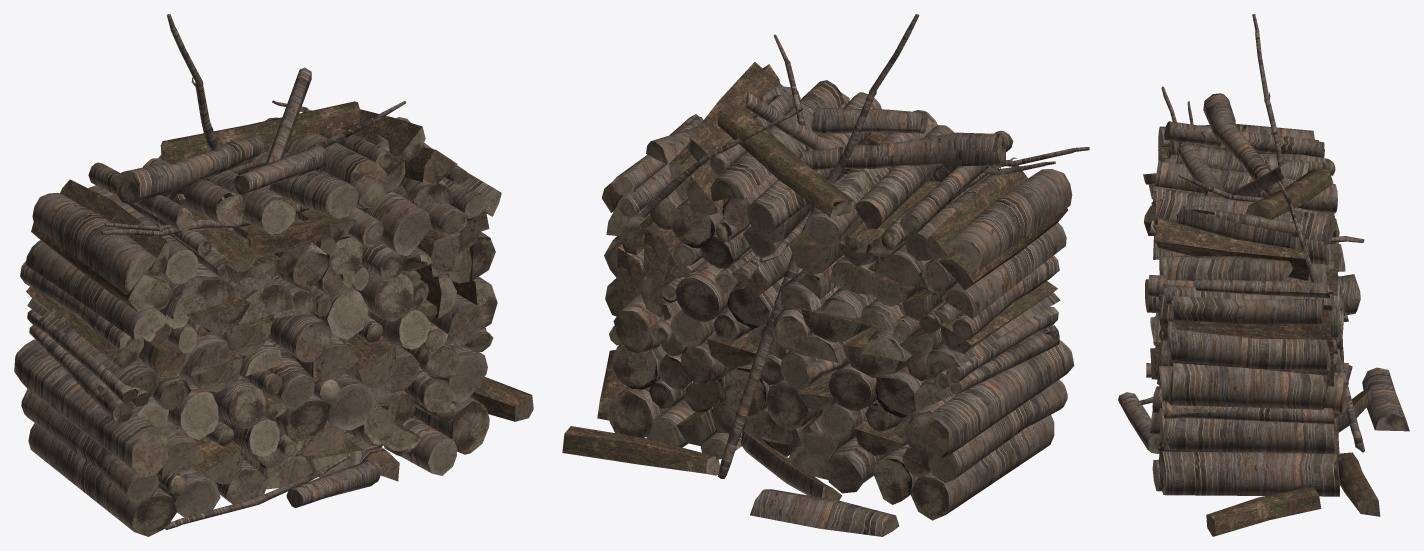
Rendered from LogPile01.fbx.
The picture shows the model from 3 angles, left to right: view 1: azimuth 30°, elevation 25°; view 2: azimuth 150°, elevation 25°; view 3: azimuth 270°, elevation 25°; orthographic projection. The views are drawn at different scales.
Visible parts, largest first — view 1: SM_BRL_LogPile01.mo; view 2: SM_BRL_LogPile01.mo; view 3: SM_BRL_LogPile01.mo.
Part boxes in pixels (<box>): SM_BRL_LogPile01.mo: <box>14,14,533,536</box>; SM_BRL_LogPile01.mo: <box>562,14,1089,536</box>; SM_BRL_LogPile01.mo: <box>1118,14,1409,536</box>.
Bounding box in the file's own units: 256 × 250 × 168.
